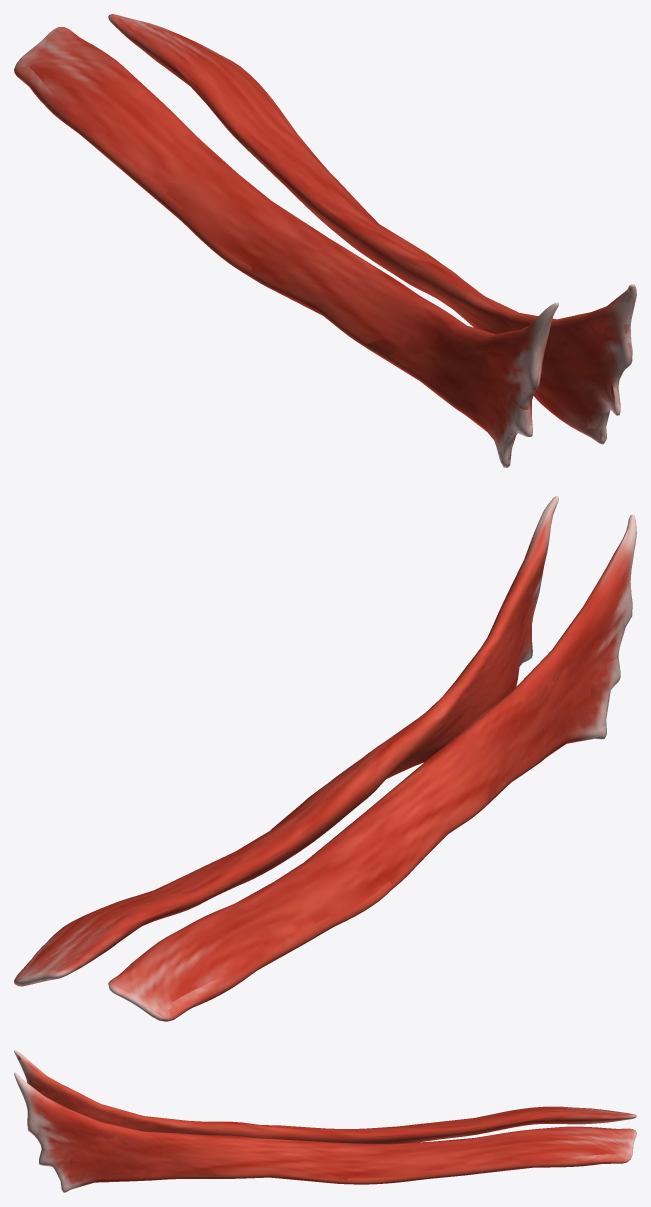
Rendered from Spinalis.fbx.
3 renders of one model, top to bottom at view 1: azimuth 30°, elevation 25°; view 2: azimuth 150°, elevation 25°; view 3: azimuth 270°, elevation 25°, orthographic. The views are drawn at different scales.
Visible parts, largest first — view 1: Spinalis, Spinalis low; view 2: Spinalis, Spinalis low; view 3: Spinalis, Spinalis low.
Boxes of the visible parts, x1,y1,x2,y2 form: Spinalis: (14,14,636,467); Spinalis low: (15,15,634,462); Spinalis: (14,496,636,1021); Spinalis low: (15,507,634,1020); Spinalis: (14,1050,636,1192); Spinalis low: (16,1055,636,1189).
Bounding box in the file's own units: 23.23 × 23.12 × 112.
